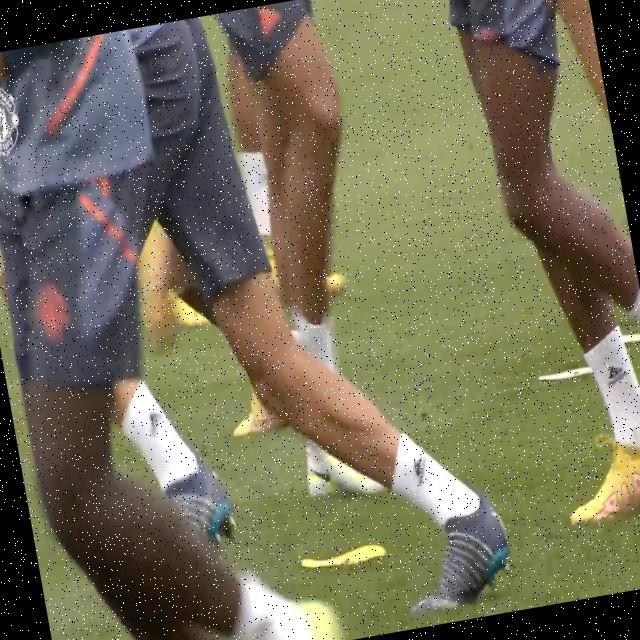Adidas: (410, 448, 433, 486), (145, 403, 167, 437), (604, 360, 630, 388)
